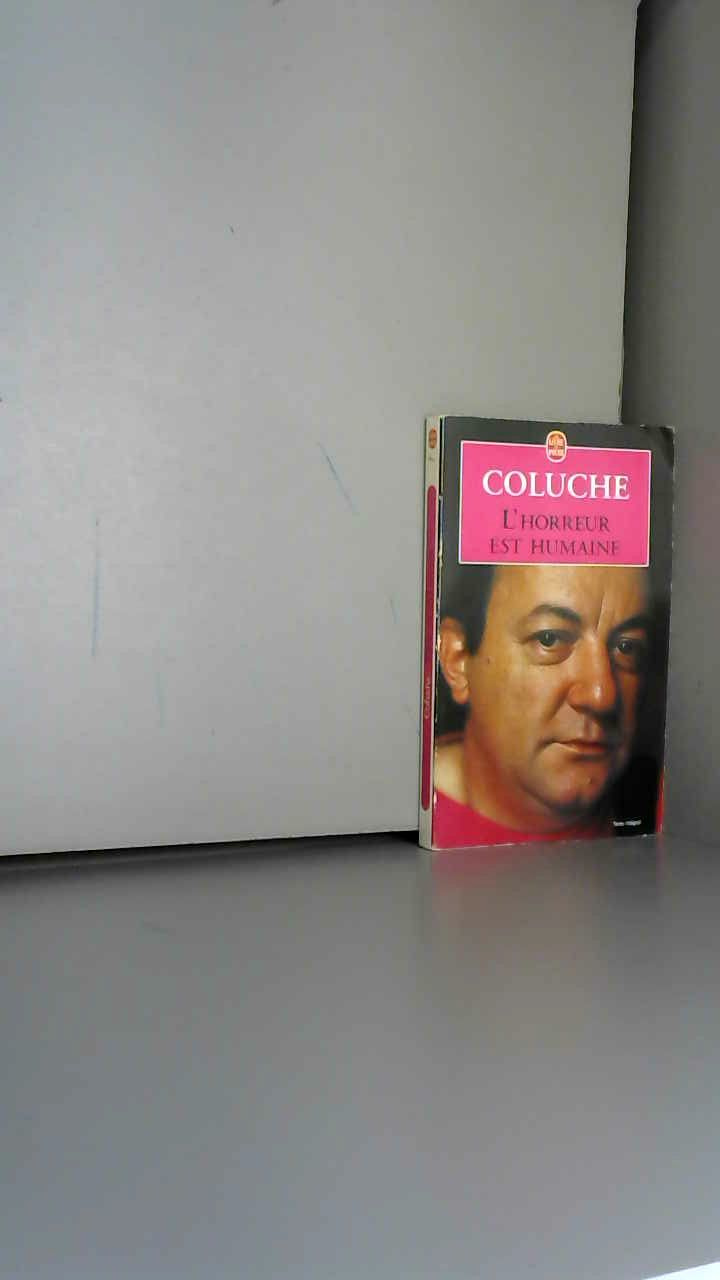book: (410, 390, 720, 906)
